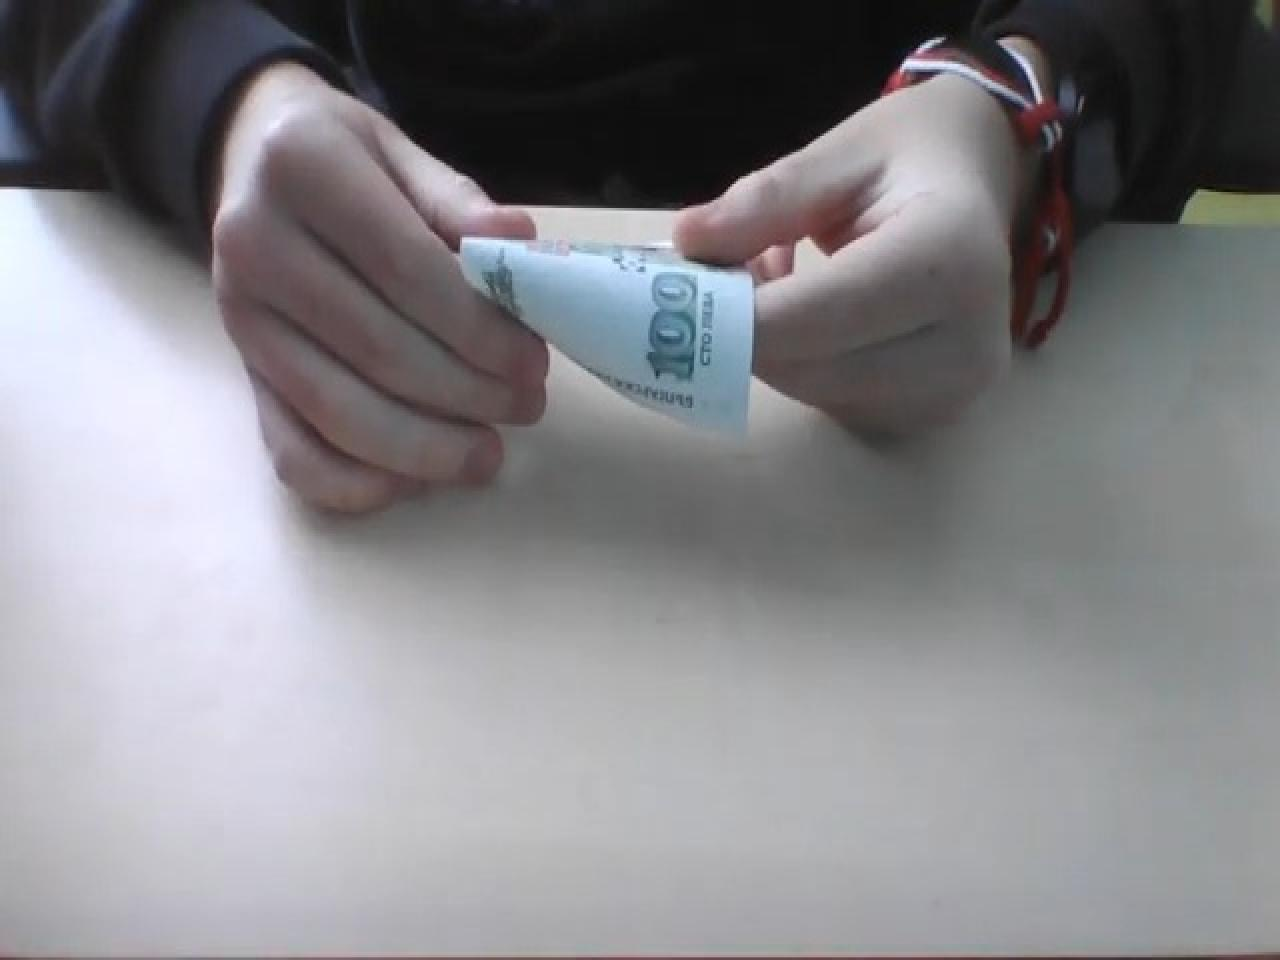100leva: (456, 230, 756, 438)
